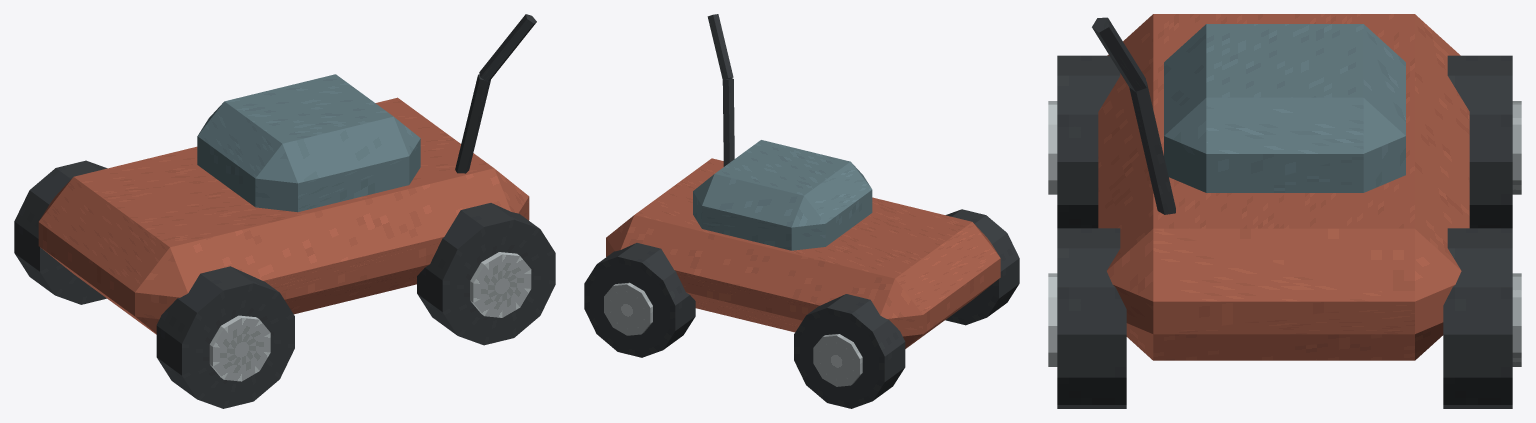
File: radio_car.glb
The picture shows the model from 3 angles, left to right: view 1: azimuth 30°, elevation 25°; view 2: azimuth 150°, elevation 25°; view 3: azimuth 270°, elevation 25°; orthographic projection. The views are drawn at different scales.
Parts seen in each view (by area): view 1: block_toy car body, block_rubber toy tire (×3), block_windscreen cabin, block_toy wheel hub (×2), block_antenna 0, block_antenna 1; view 2: block_toy car body, block_rubber toy tire (×3), block_windscreen cabin, block_toy wheel hub (×2), block_antenna 0, block_antenna 1; view 3: block_toy car body, block_rubber toy tire (×4), block_windscreen cabin, block_toy wheel hub (×4), block_antenna 0, block_antenna 1.
Boxes of the visible parts, x1,y1,x2,y2 form: block_toy car body: (38,97,529,334); block_rubber toy tire (×3): (14,160,555,408); block_windscreen cabin: (197,74,420,212); block_toy wheel hub (×2): (209,252,531,381); block_antenna 0: (455,74,490,173); block_antenna 1: (479,14,536,81); block_toy car body: (606,158,1000,348); block_rubber toy tire (×3): (584,209,1019,408); block_windscreen cabin: (693,140,872,250); block_toy wheel hub (×2): (604,282,862,386); block_antenna 0: (722,78,734,166); block_antenna 1: (707,14,733,79); block_toy car body: (1098,14,1469,360); block_rubber toy tire (×4): (1057,55,1512,408); block_windscreen cabin: (1164,24,1405,192); block_toy wheel hub (×4): (1048,101,1521,366); block_antenna 0: (1129,80,1175,214); block_antenna 1: (1092,17,1146,92).
Bounding box in the file's own units: 0.2186 × 0.1606 × 0.1674.
1 material, 1 textured.
